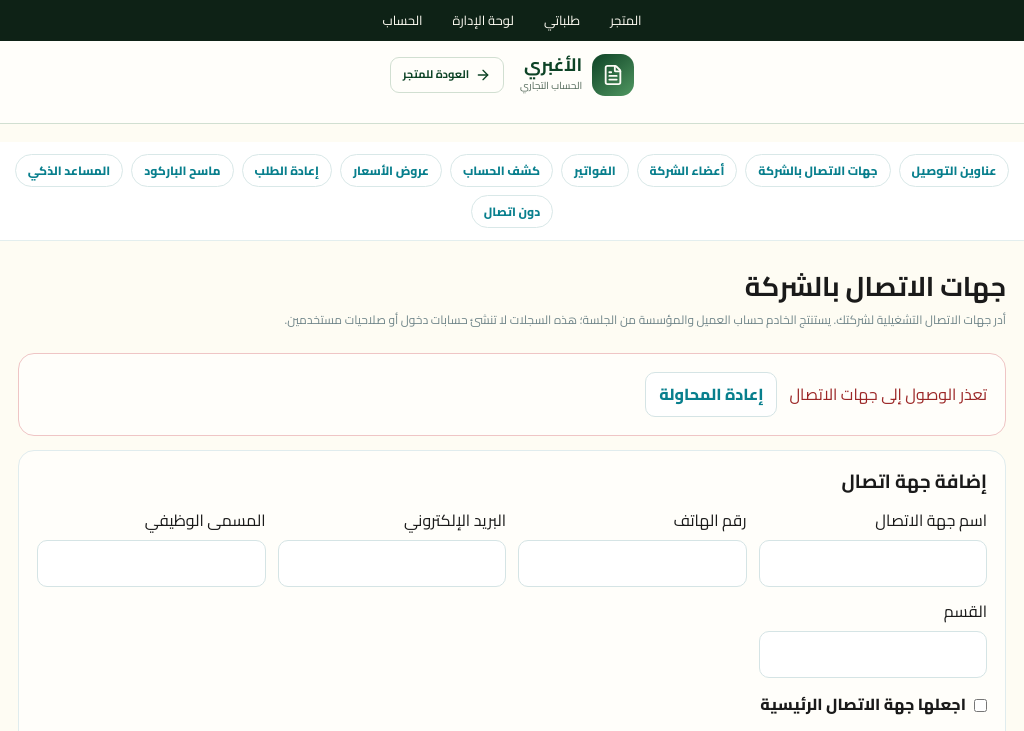
customer company contacts real route acceptance › shows a read failure and recovers through the route's retry action
Expected: the message "تعذر الوصول إلى جهات الاتصال إعادة المحاولة" is shown, [18,353,1006,436]
Click the button "إعادة المحاولة" at (711, 394), box [645,372,777,417]
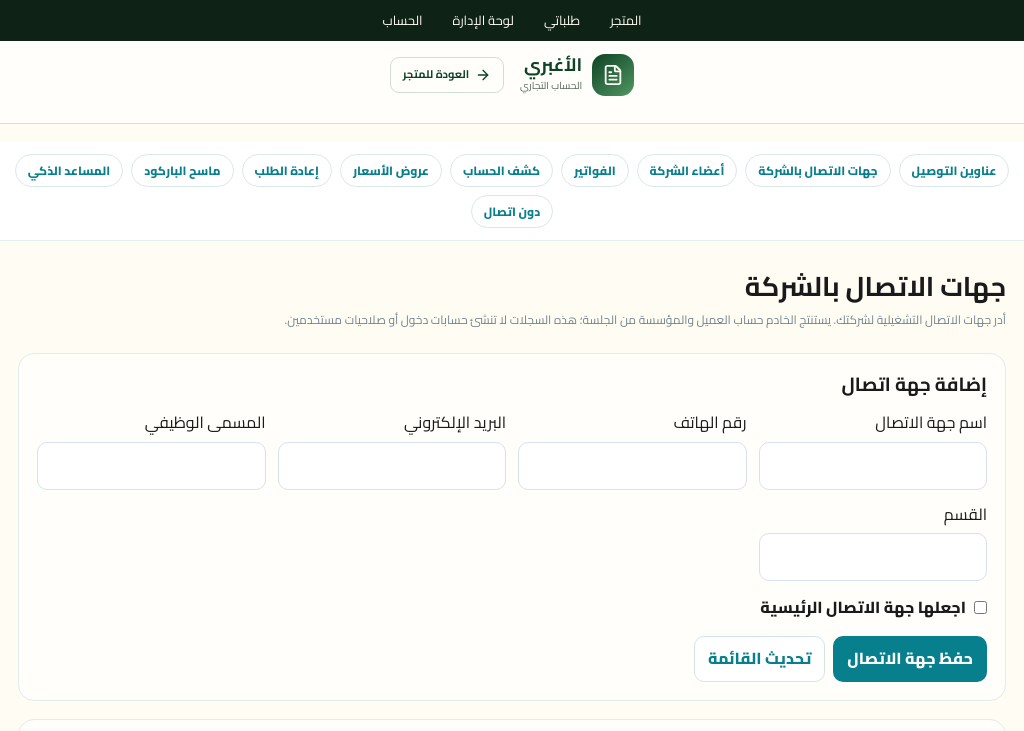
Result: the message "تعذر الوصول إلى جهات الاتصال إعادة المحاولة" is gone
